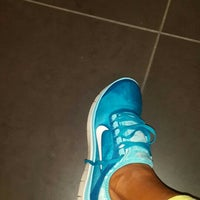nike: (95, 124, 109, 167)
